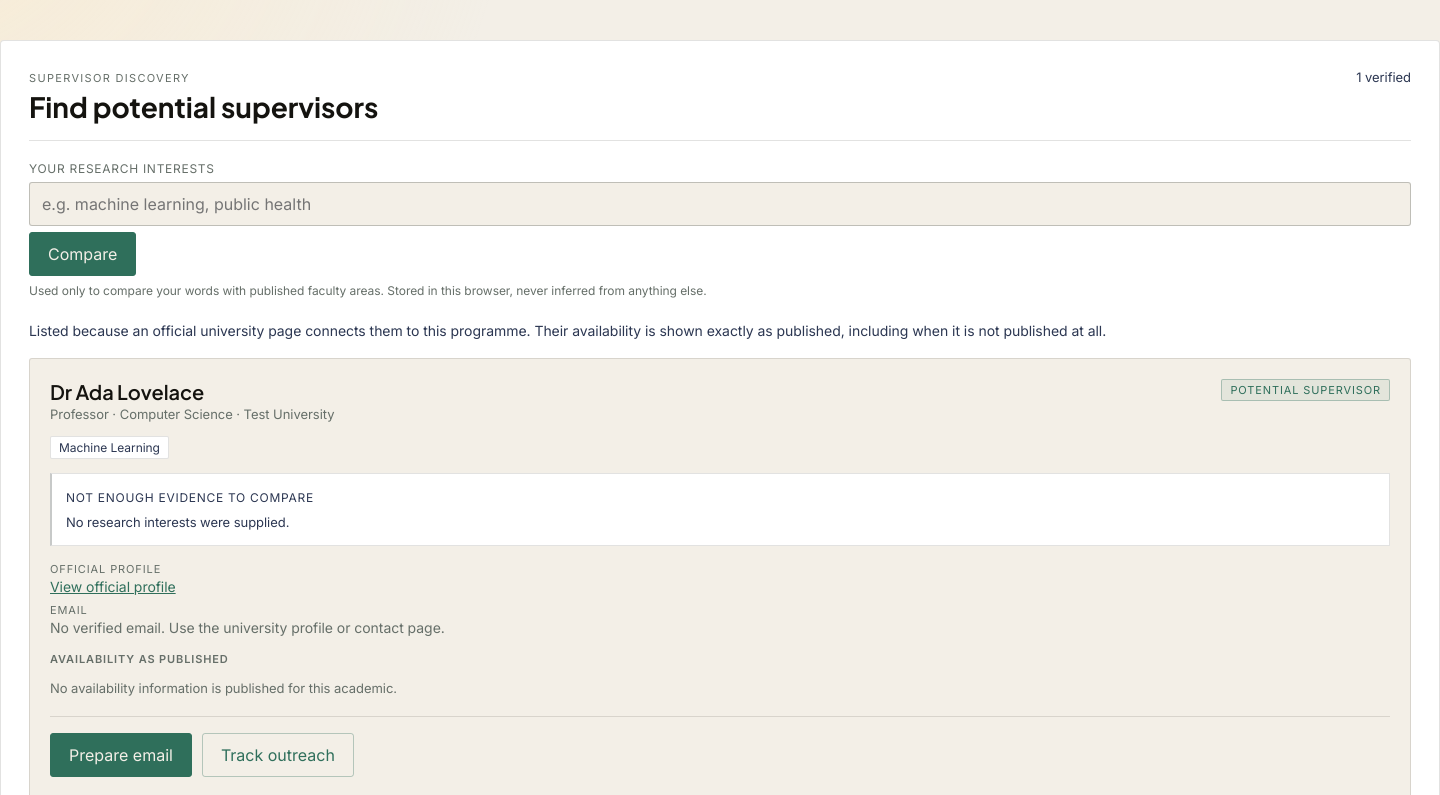
Test: SupervisorPanel outreach integration › prepares an email and tracks outreach through the restored routes
Expected: the heading "Dr Ada Lovelace" is shown, [50,379,204,404]
Click the button "Prepare email".
click(121, 755)  # box [50,733,192,777]
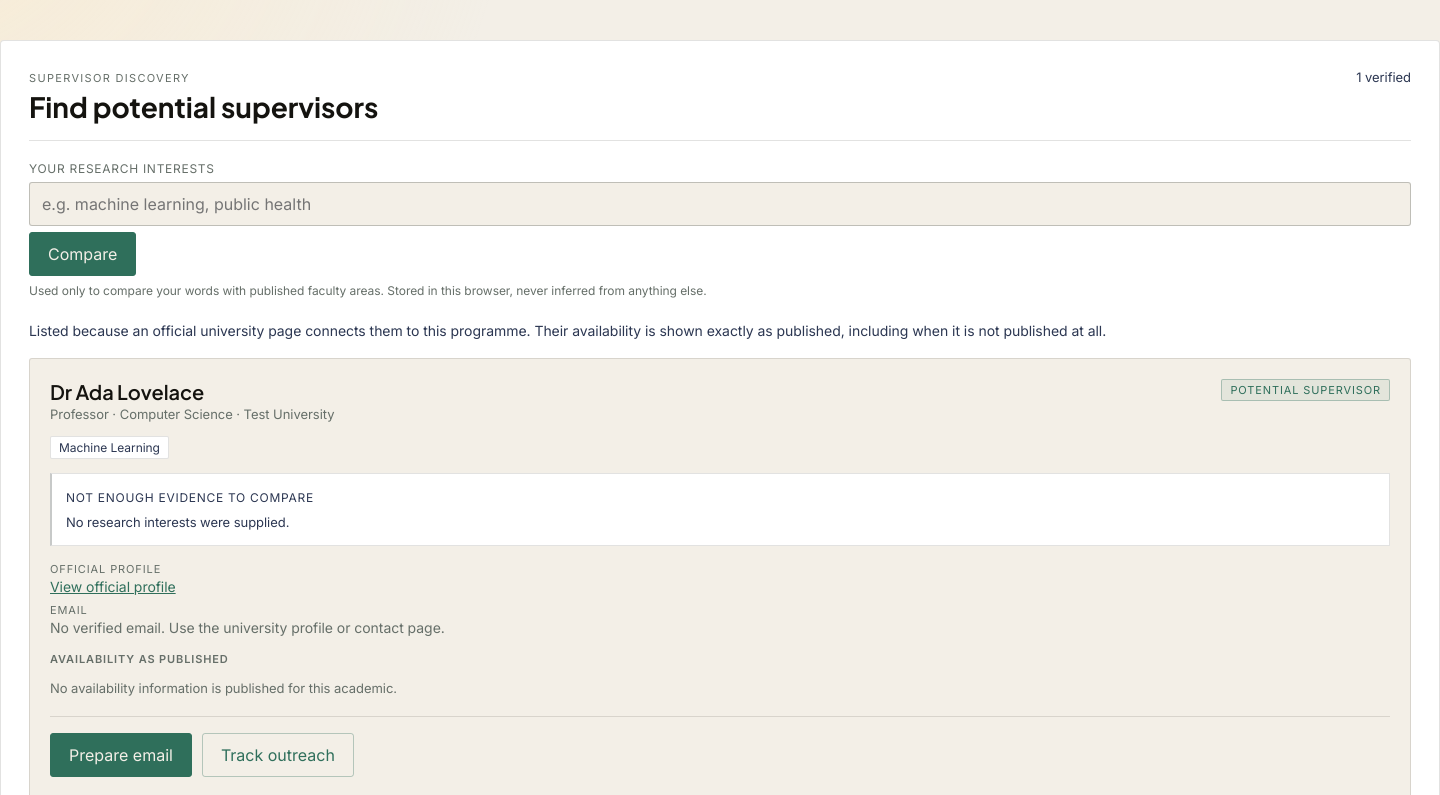
Click the button "Track outreach".
click(278, 755)  # box [202,733,354,777]
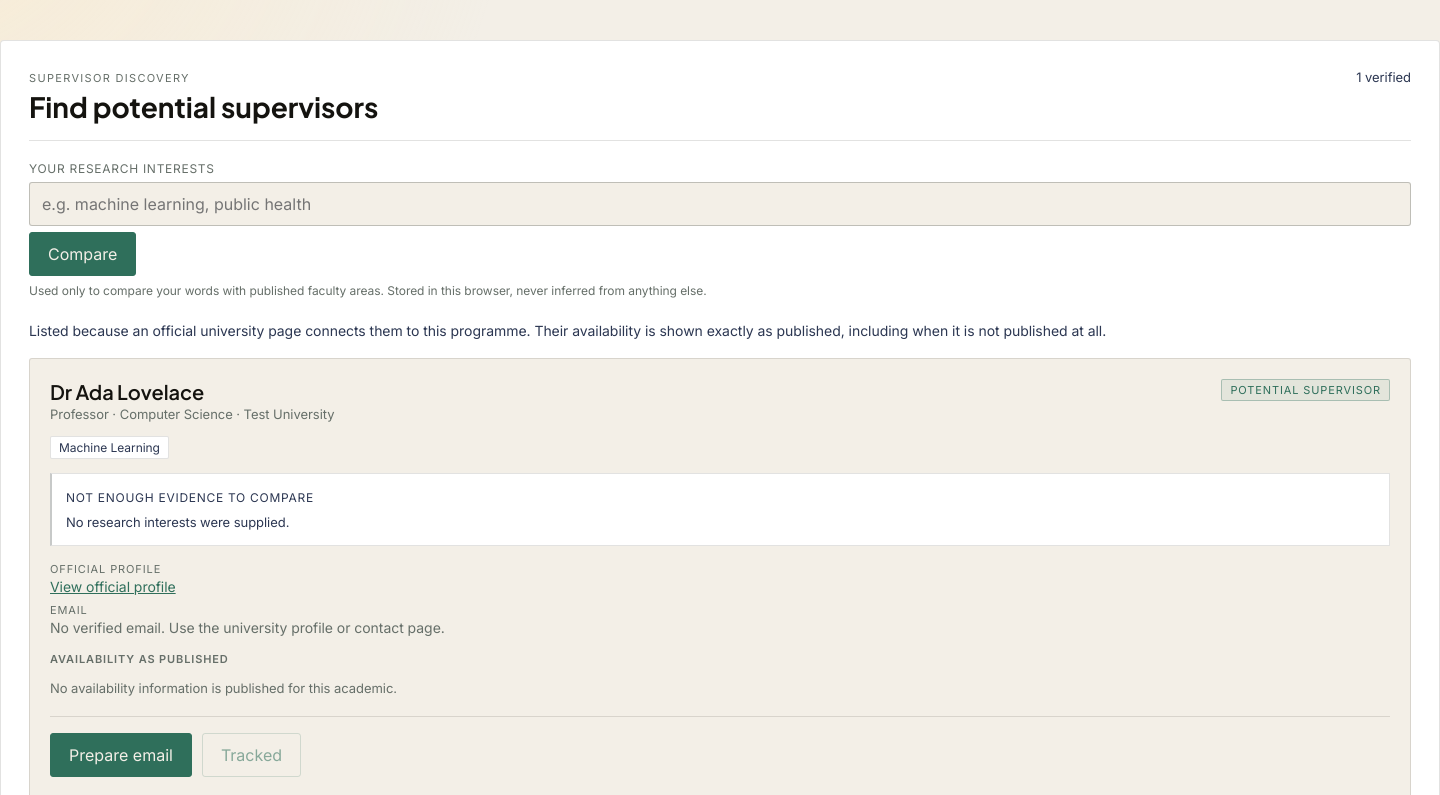
Expected: the button "Tracked" is shown, [202,733,301,777]
